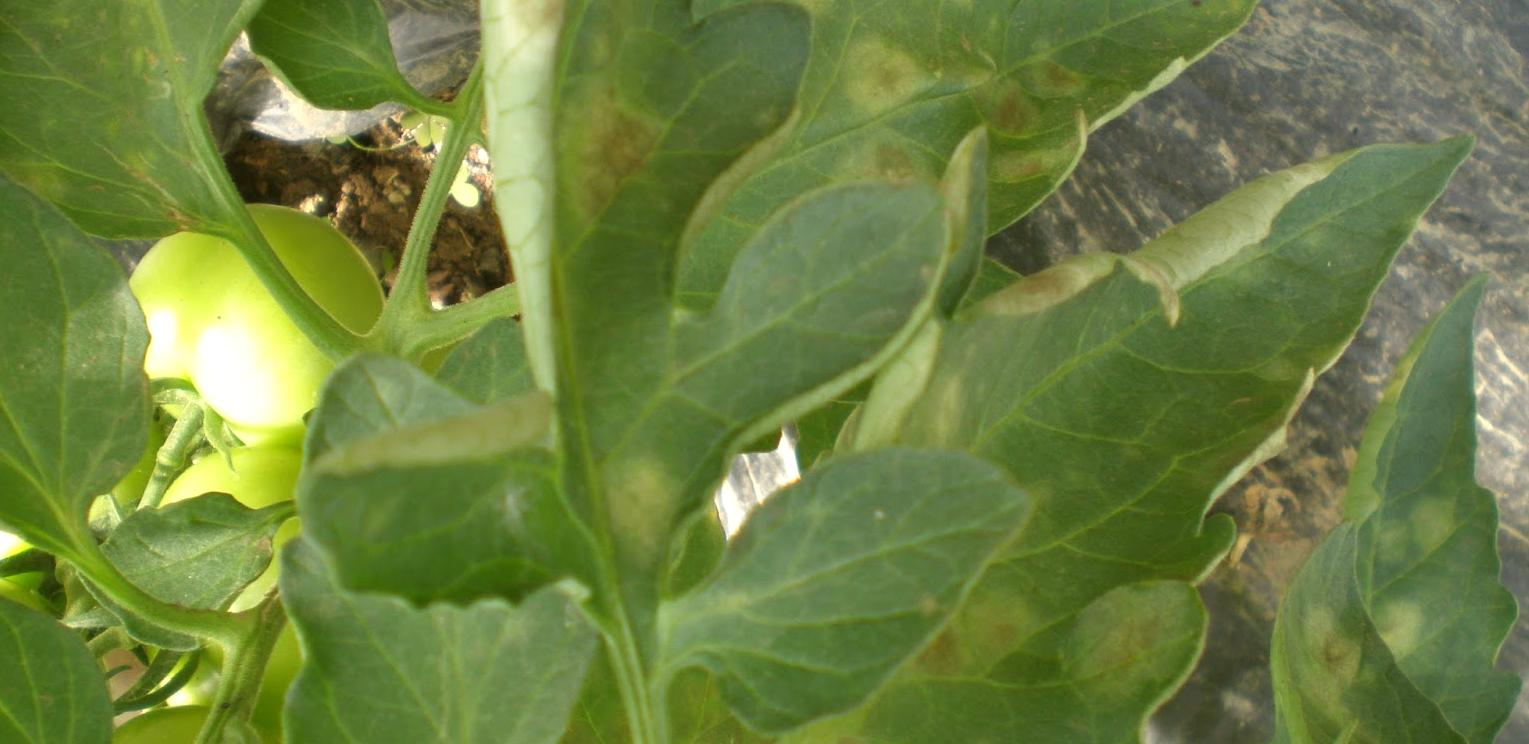Tomato mold leaf: (629, 139, 1451, 744), (706, 0, 1266, 375), (466, 0, 778, 519), (1247, 281, 1529, 744), (0, 0, 303, 261), (269, 560, 602, 744)
